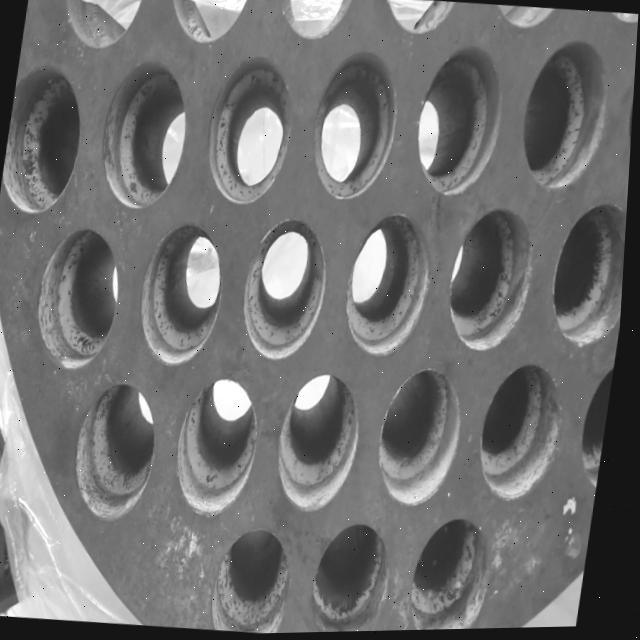Hole: (516, 36, 618, 196), (408, 43, 511, 201), (201, 53, 302, 208), (96, 57, 197, 212), (306, 48, 406, 204), (134, 216, 233, 368), (342, 209, 441, 360), (238, 215, 337, 365), (32, 223, 131, 372), (445, 205, 542, 356), (477, 358, 574, 506), (274, 369, 371, 516), (72, 376, 168, 524), (375, 364, 472, 510), (174, 372, 269, 521), (0, 61, 90, 215), (547, 201, 630, 352), (410, 513, 503, 632), (312, 518, 403, 634), (213, 523, 303, 636)
